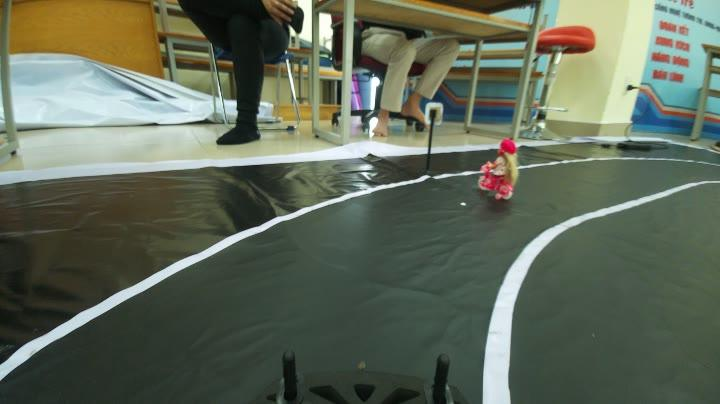pedestrian: (478, 136, 530, 208)
